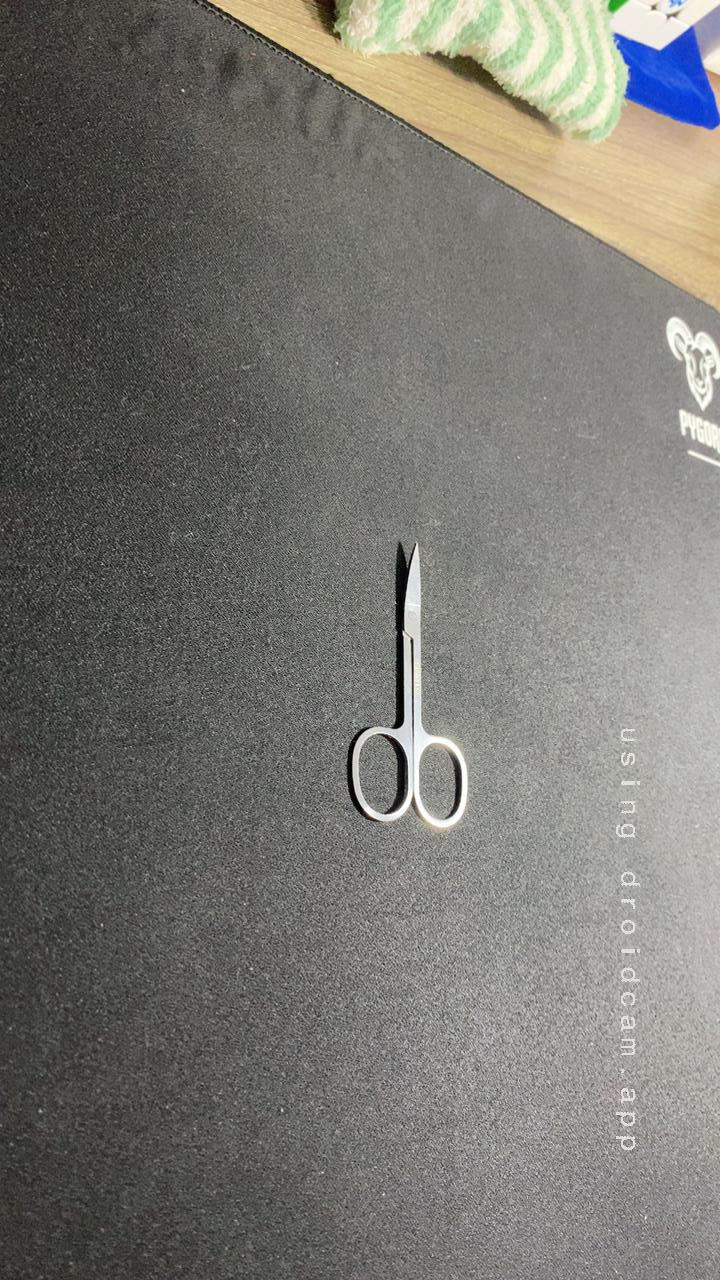scissor: (321, 534, 488, 845)
